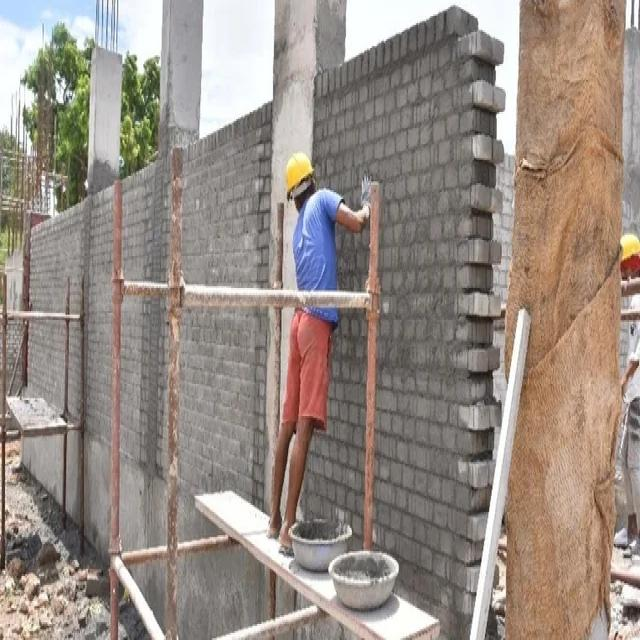Masonary: (26, 189, 463, 631)
